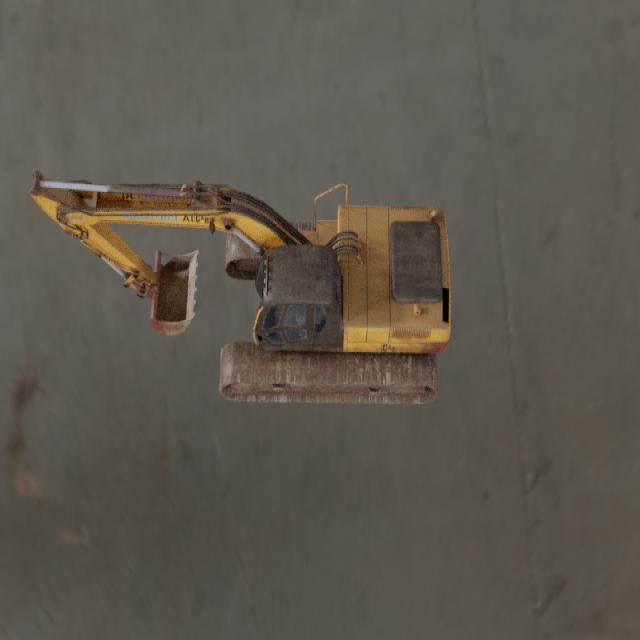excavator: (29, 169, 451, 404)
